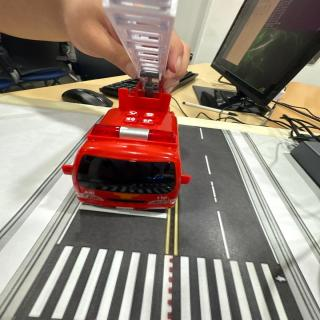Fire_truck: (62, 81, 190, 209)
